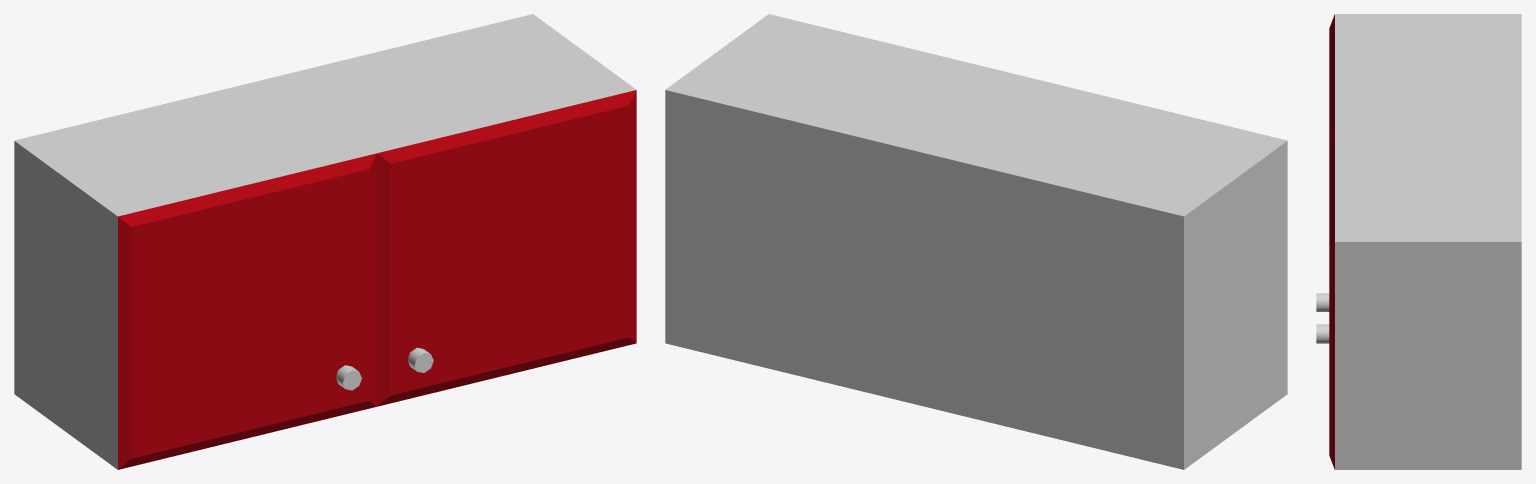
The model's file is KitchenCupboard-Apartment_01.fbx.
3 views of the same model, side by side, from view 1: azimuth 30°, elevation 25°; view 2: azimuth 150°, elevation 25°; view 3: azimuth 270°, elevation 25° (orthographic). The views are drawn at different scales.
Parts seen in each view (by area): view 1: KitchenCupboard-Apartment_01; view 2: KitchenCupboard-Apartment_01; view 3: KitchenCupboard-Apartment_01.
Part boxes in pixels (x1,y1,x2,y2): KitchenCupboard-Apartment_01: (14,14,636,469); KitchenCupboard-Apartment_01: (665,14,1287,469); KitchenCupboard-Apartment_01: (1316,14,1521,469).
Size of the model in its own units: 2.02 by 0.9419 by 0.7673.
